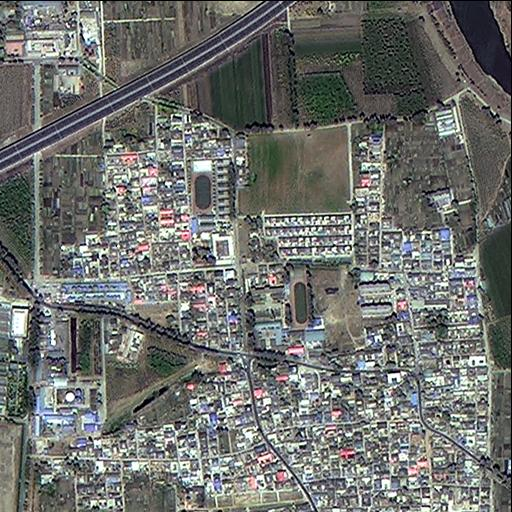school: (244, 276, 312, 332), (188, 156, 231, 229)
